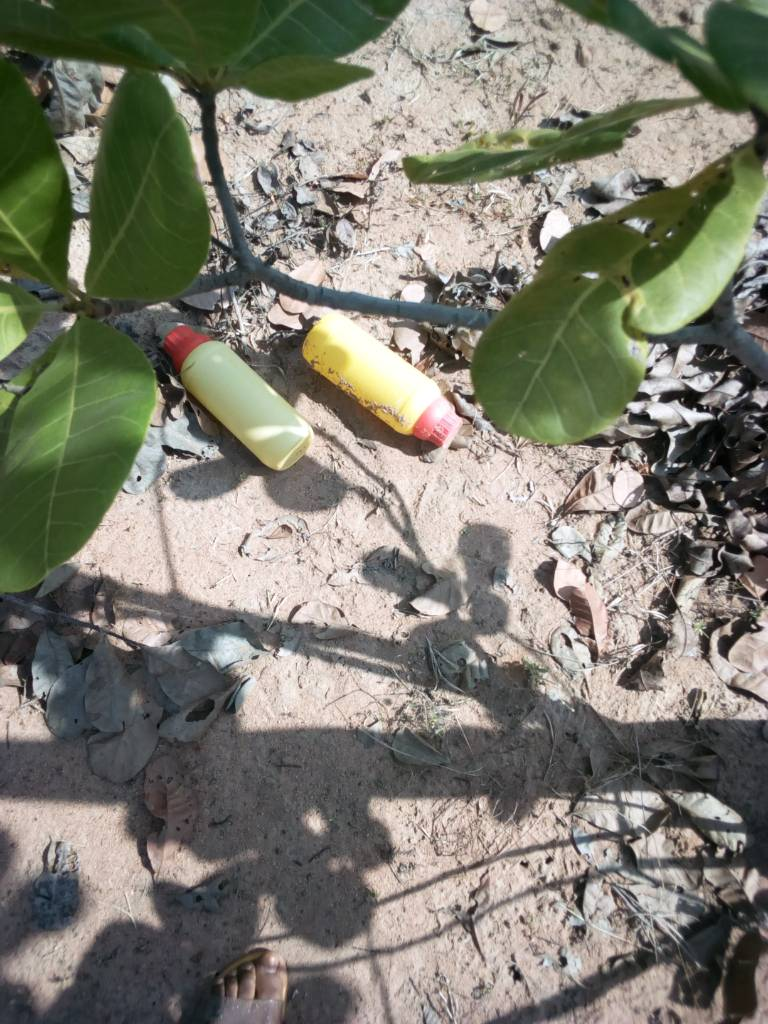Anoplocnemis curvipes: (480, 160, 768, 446)
